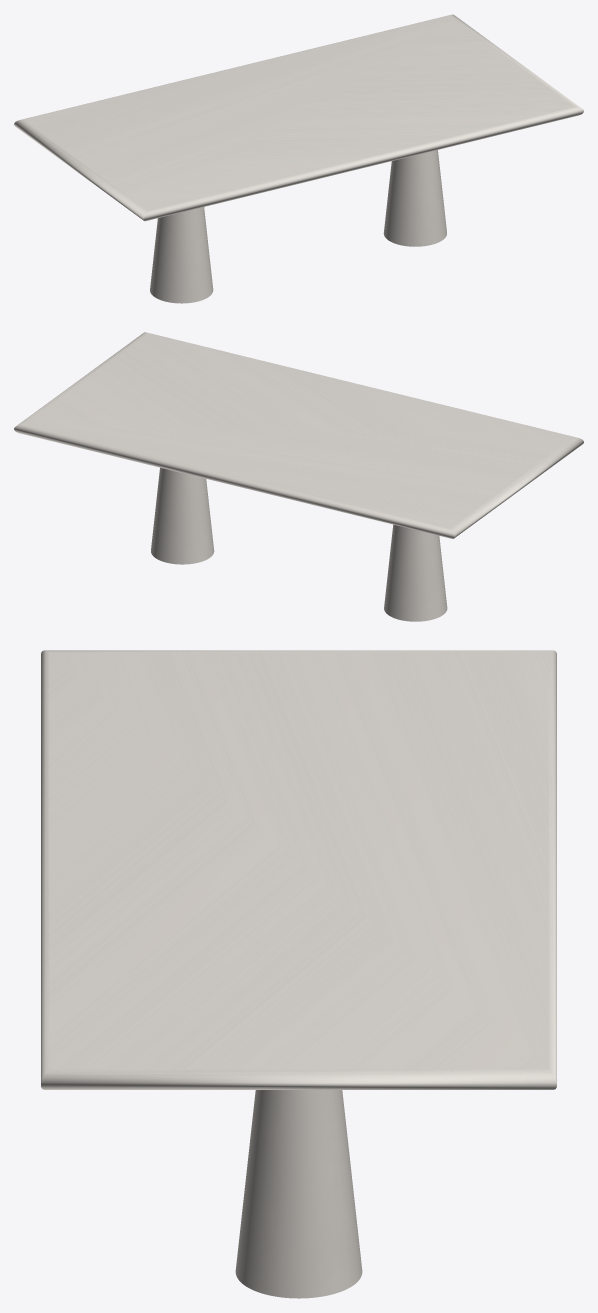
Rendered from pearlwhite_recta_round_pebble.glb.
3 renders of one model, top to bottom at view 1: azimuth 30°, elevation 25°; view 2: azimuth 150°, elevation 25°; view 3: azimuth 270°, elevation 25°, orthographic. The views are drawn at different scales.
Visible parts, largest first — view 1: round_recta, pebble; view 2: round_recta, pebble; view 3: round_recta, pebble.
Boxes of the visible parts, <box> form: round_recta: <box>14,14,583,221</box>; pebble: <box>150,150,446,303</box>; round_recta: <box>14,332,583,538</box>; pebble: <box>151,467,447,621</box>; round_recta: <box>41,650,556,1089</box>; pebble: <box>235,1090,362,1298</box>.
Size of the model in its own units: 7.76 by 2.5 by 3.93.
1 material, 1 textured.
